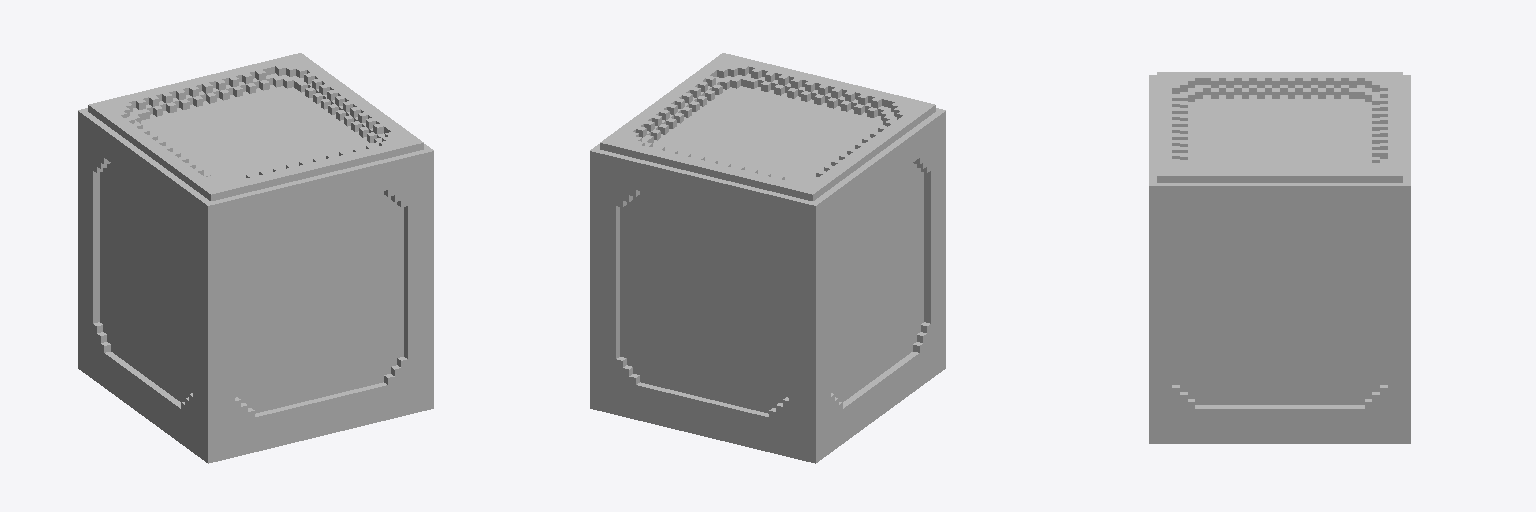
File: internWall.obj
The picture shows the model from 3 angles: view 1: azimuth 30°, elevation 25°; view 2: azimuth 150°, elevation 25°; view 3: azimuth 270°, elevation 25°; orthographic projection.
Parts seen in each view (by area): view 1: object 1; view 2: object 1; view 3: object 1.
Boxes of the visible parts, box(x1,y1,x2,y2) form: object 1: box(78, 53, 433, 463); object 1: box(590, 53, 945, 463); object 1: box(1149, 72, 1410, 443).
Size of the model in its own units: 3.4 by 3.8 by 3.4.